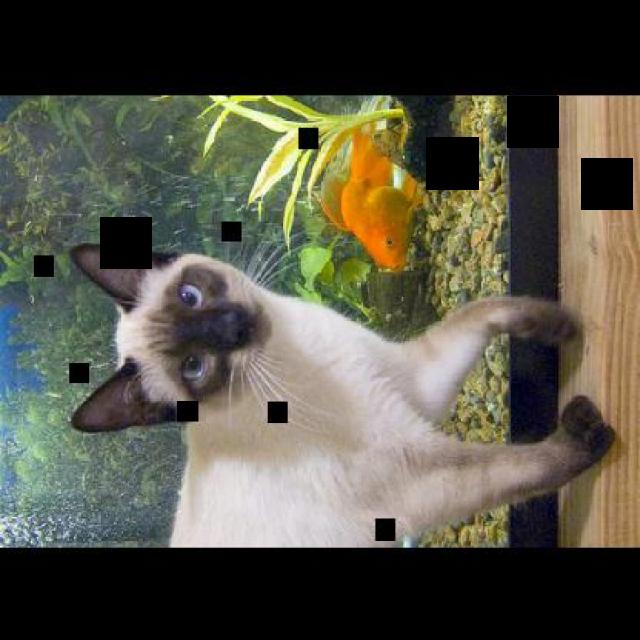unauthorized: (67, 230, 616, 548)
